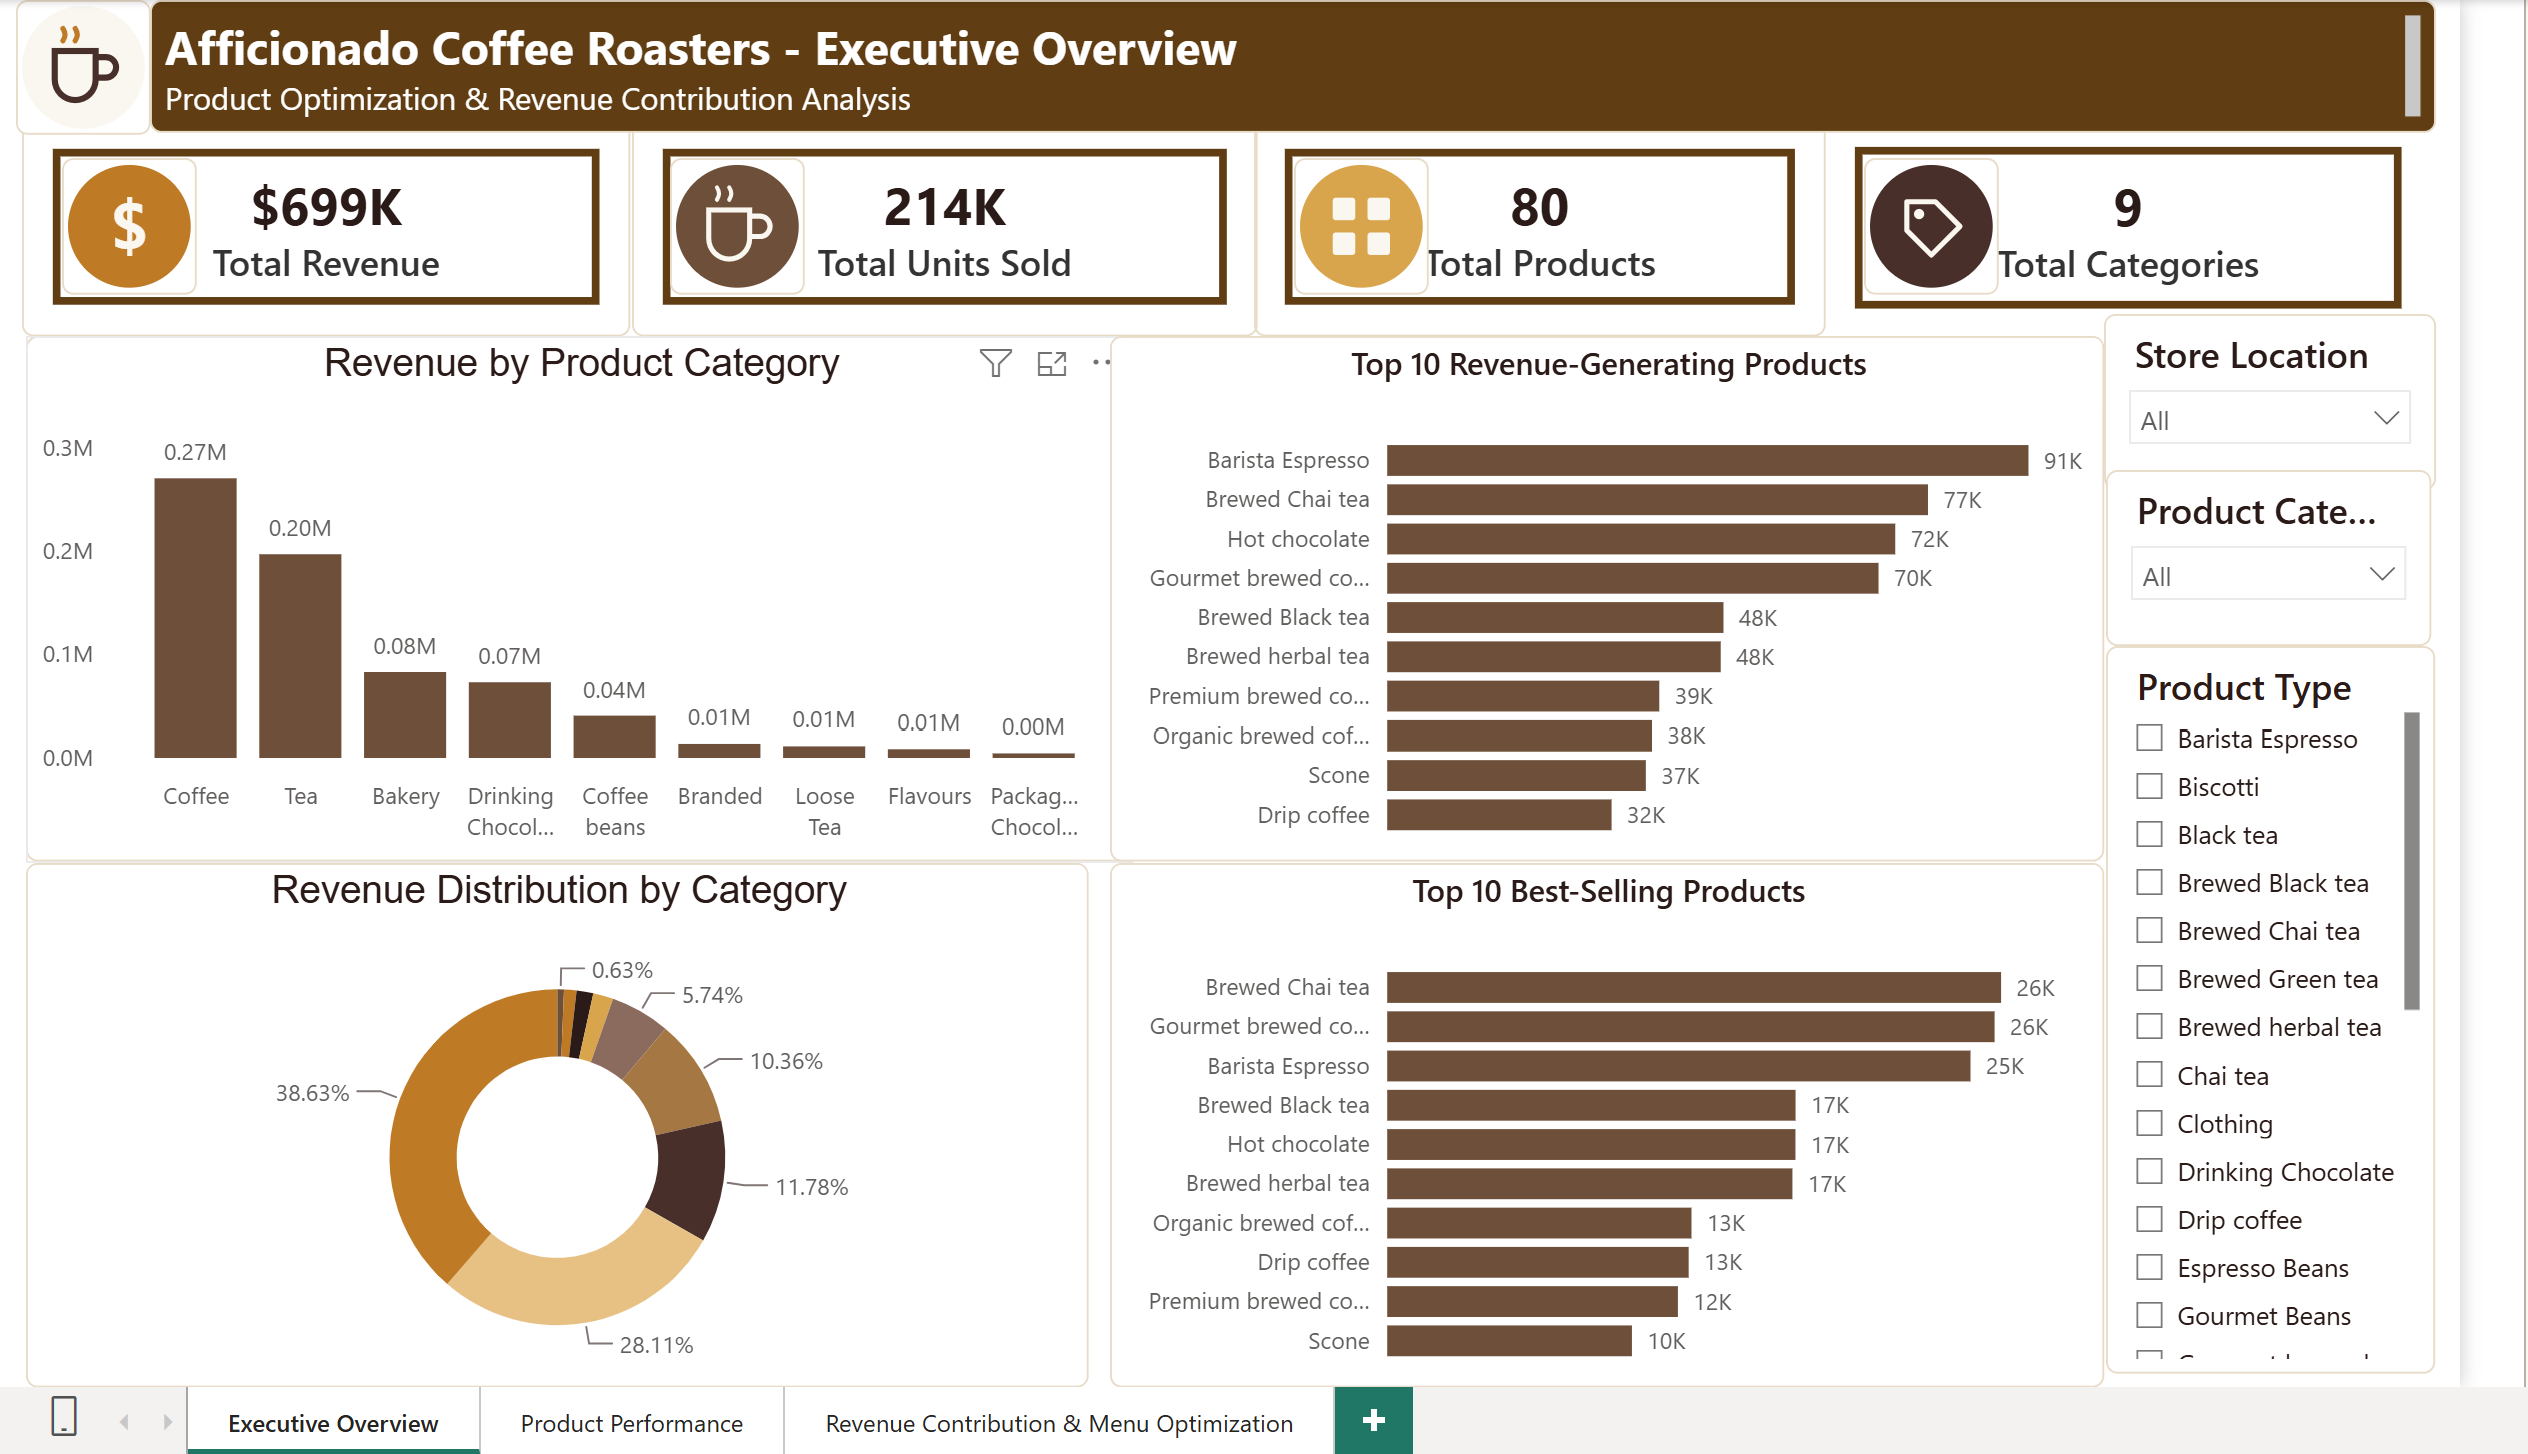

What the dashboard file says about the page in this screenshot:
{"tool":"powerbi","page":{"name":"Executive Overview","canvas":[1280,720],"ordinal":0},"visuals":[{"type":"cardVisual","fields":{"Data":["cleaned_coffee_sales.Total Revenue"]},"box":[14,61.2,316.2,113.5],"z":0},{"type":"cardVisual","fields":{"Data":["cleaned_coffee_sales.Total Products"]},"box":[654,61.2,297.1,113.5],"z":1000},{"type":"cardVisual","fields":{"Data":["cleaned_coffee_sales.Total Units Sold"]},"box":[330.2,61.2,325.1,113.5],"z":2000},{"type":"cardVisual","fields":{"Data":["cleaned_coffee_sales.Total Categories"]},"box":[950.5,61.2,315,114.6],"z":3000},{"type":"columnChart","title":"Revenue by Product Category","fields":{"Category":["cleaned_coffee_sales.product_category"],"Y":["Sum(cleaned_coffee_sales.Revenue)"]},"box":[15.6,174.7,575.4,272.7],"z":4000},{"type":"donutChart","title":"Revenue Distribution  by Category","fields":{"Category":["cleaned_coffee_sales.product_category"],"Y":["Sum(cleaned_coffee_sales.Revenue)"]},"box":[15.6,447.4,552.1,272.7],"z":5000},{"type":"barChart","title":"Top 10 Revenue-Generating Products","fields":{"Category":["cleaned_coffee_sales.product_type"],"Y":["cleaned_coffee_sales.Total Revenue"]},"box":[578.8,174.7,516.5,272.7],"z":6000},{"type":"slicer","fields":{"Values":["cleaned_coffee_sales.store_location"]},"box":[1095.2,163.6,172.5,91.3],"z":7000},{"type":"slicer","fields":{"Values":["cleaned_coffee_sales.product_category"]},"box":[1096.3,243.8,169.2,91.3],"z":8000},{"type":"slicer","fields":{"Values":["cleaned_coffee_sales.product_type"]},"box":[1096.4,335.3,170.8,377.4],"z":9000},{"type":"barChart","title":"Top 10 Best-Selling Products","fields":{"Y":["cleaned_coffee_sales.Total Units Sold"],"Category":["cleaned_coffee_sales.product_type"]},"box":[578.8,447.4,516.5,272.7],"z":10000},{"type":"textbox","box":[80.1,0,1187.6,69],"z":11000},{"type":"image","box":[10,0,70,70],"z":12000},{"type":"image","box":[34.5,82.4,70,71.2],"z":13000},{"type":"image","box":[350.6,82.4,70,71],"z":14000},{"type":"image","box":[674.5,82.4,70,71],"z":15000},{"type":"image","box":[970.6,82.4,70,71],"z":16000}]}

Visuals, with their boxes on the page's 1280x720 design canvas (x1, y1, x2, y2). These are canvas units, not pixel positions in the 2528x1454 screenshot, which may show the page scaled, cropped or inside an application window:
cardVisual - cleaned_coffee_sales.Total Revenue: {"left": 14, "top": 61, "right": 330, "bottom": 175}
cardVisual - cleaned_coffee_sales.Total Products: {"left": 654, "top": 61, "right": 951, "bottom": 175}
cardVisual - cleaned_coffee_sales.Total Units Sold: {"left": 330, "top": 61, "right": 655, "bottom": 175}
cardVisual - cleaned_coffee_sales.Total Categories: {"left": 950, "top": 61, "right": 1266, "bottom": 176}
"Revenue by Product Category" columnChart: {"left": 16, "top": 175, "right": 591, "bottom": 447}
"Revenue Distribution  by Category" donutChart: {"left": 16, "top": 447, "right": 568, "bottom": 720}
"Top 10 Revenue-Generating Products" barChart: {"left": 579, "top": 175, "right": 1095, "bottom": 447}
slicer - cleaned_coffee_sales.store_location: {"left": 1095, "top": 164, "right": 1268, "bottom": 255}
slicer - cleaned_coffee_sales.product_category: {"left": 1096, "top": 244, "right": 1266, "bottom": 335}
slicer - cleaned_coffee_sales.product_type: {"left": 1096, "top": 335, "right": 1267, "bottom": 713}
"Top 10 Best-Selling Products" barChart: {"left": 579, "top": 447, "right": 1095, "bottom": 720}
textbox: {"left": 80, "top": 0, "right": 1268, "bottom": 69}
image: {"left": 10, "top": 0, "right": 80, "bottom": 70}
image: {"left": 34, "top": 82, "right": 104, "bottom": 154}
image: {"left": 351, "top": 82, "right": 421, "bottom": 153}
image: {"left": 674, "top": 82, "right": 744, "bottom": 153}
image: {"left": 971, "top": 82, "right": 1041, "bottom": 153}
